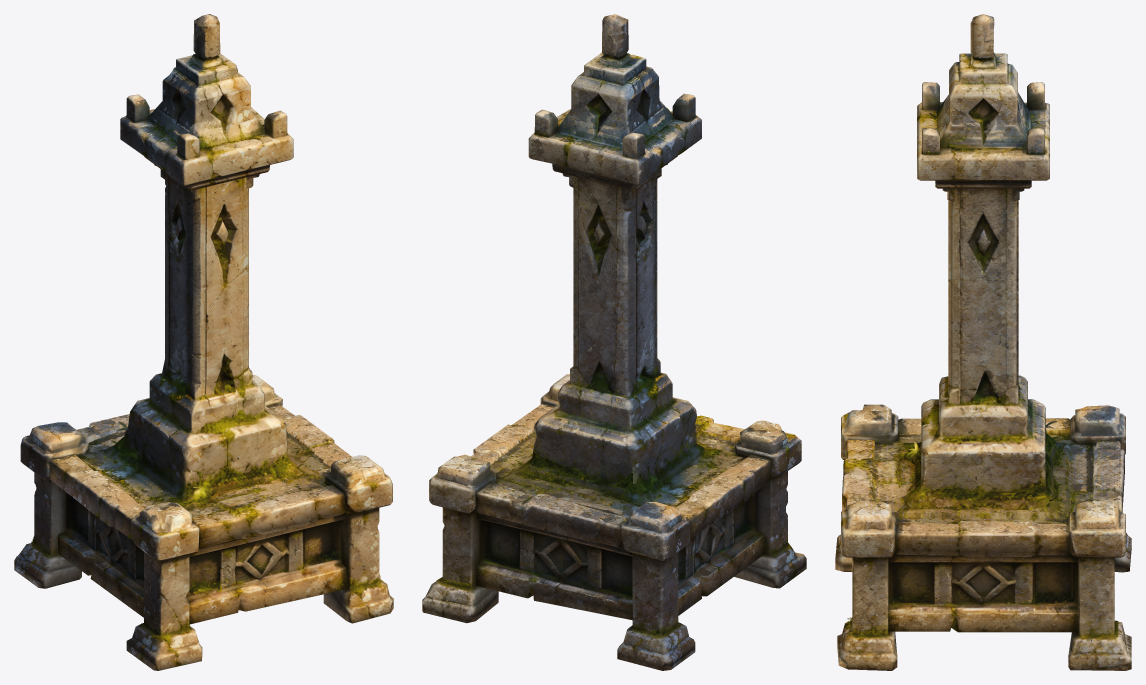
The model's file is stone+monument+3d+model.fbx.
3 renders of one model, left to right at view 1: azimuth 30°, elevation 25°; view 2: azimuth 150°, elevation 25°; view 3: azimuth 270°, elevation 25°, orthographic. The views are drawn at different scales.
Parts seen in each view (by area): view 1: ed868cb2_e5ff_424b_bc92_d7f04fdabb3f; view 2: ed868cb2_e5ff_424b_bc92_d7f04fdabb3f; view 3: ed868cb2_e5ff_424b_bc92_d7f04fdabb3f.
Part boxes in pixels (x1,y1,x2,y2): ed868cb2_e5ff_424b_bc92_d7f04fdabb3f: [14, 14, 393, 670]; ed868cb2_e5ff_424b_bc92_d7f04fdabb3f: [422, 14, 806, 670]; ed868cb2_e5ff_424b_bc92_d7f04fdabb3f: [835, 14, 1131, 670].
Size of the model in its own units: 0.4517 by 0.9995 by 0.4517.
